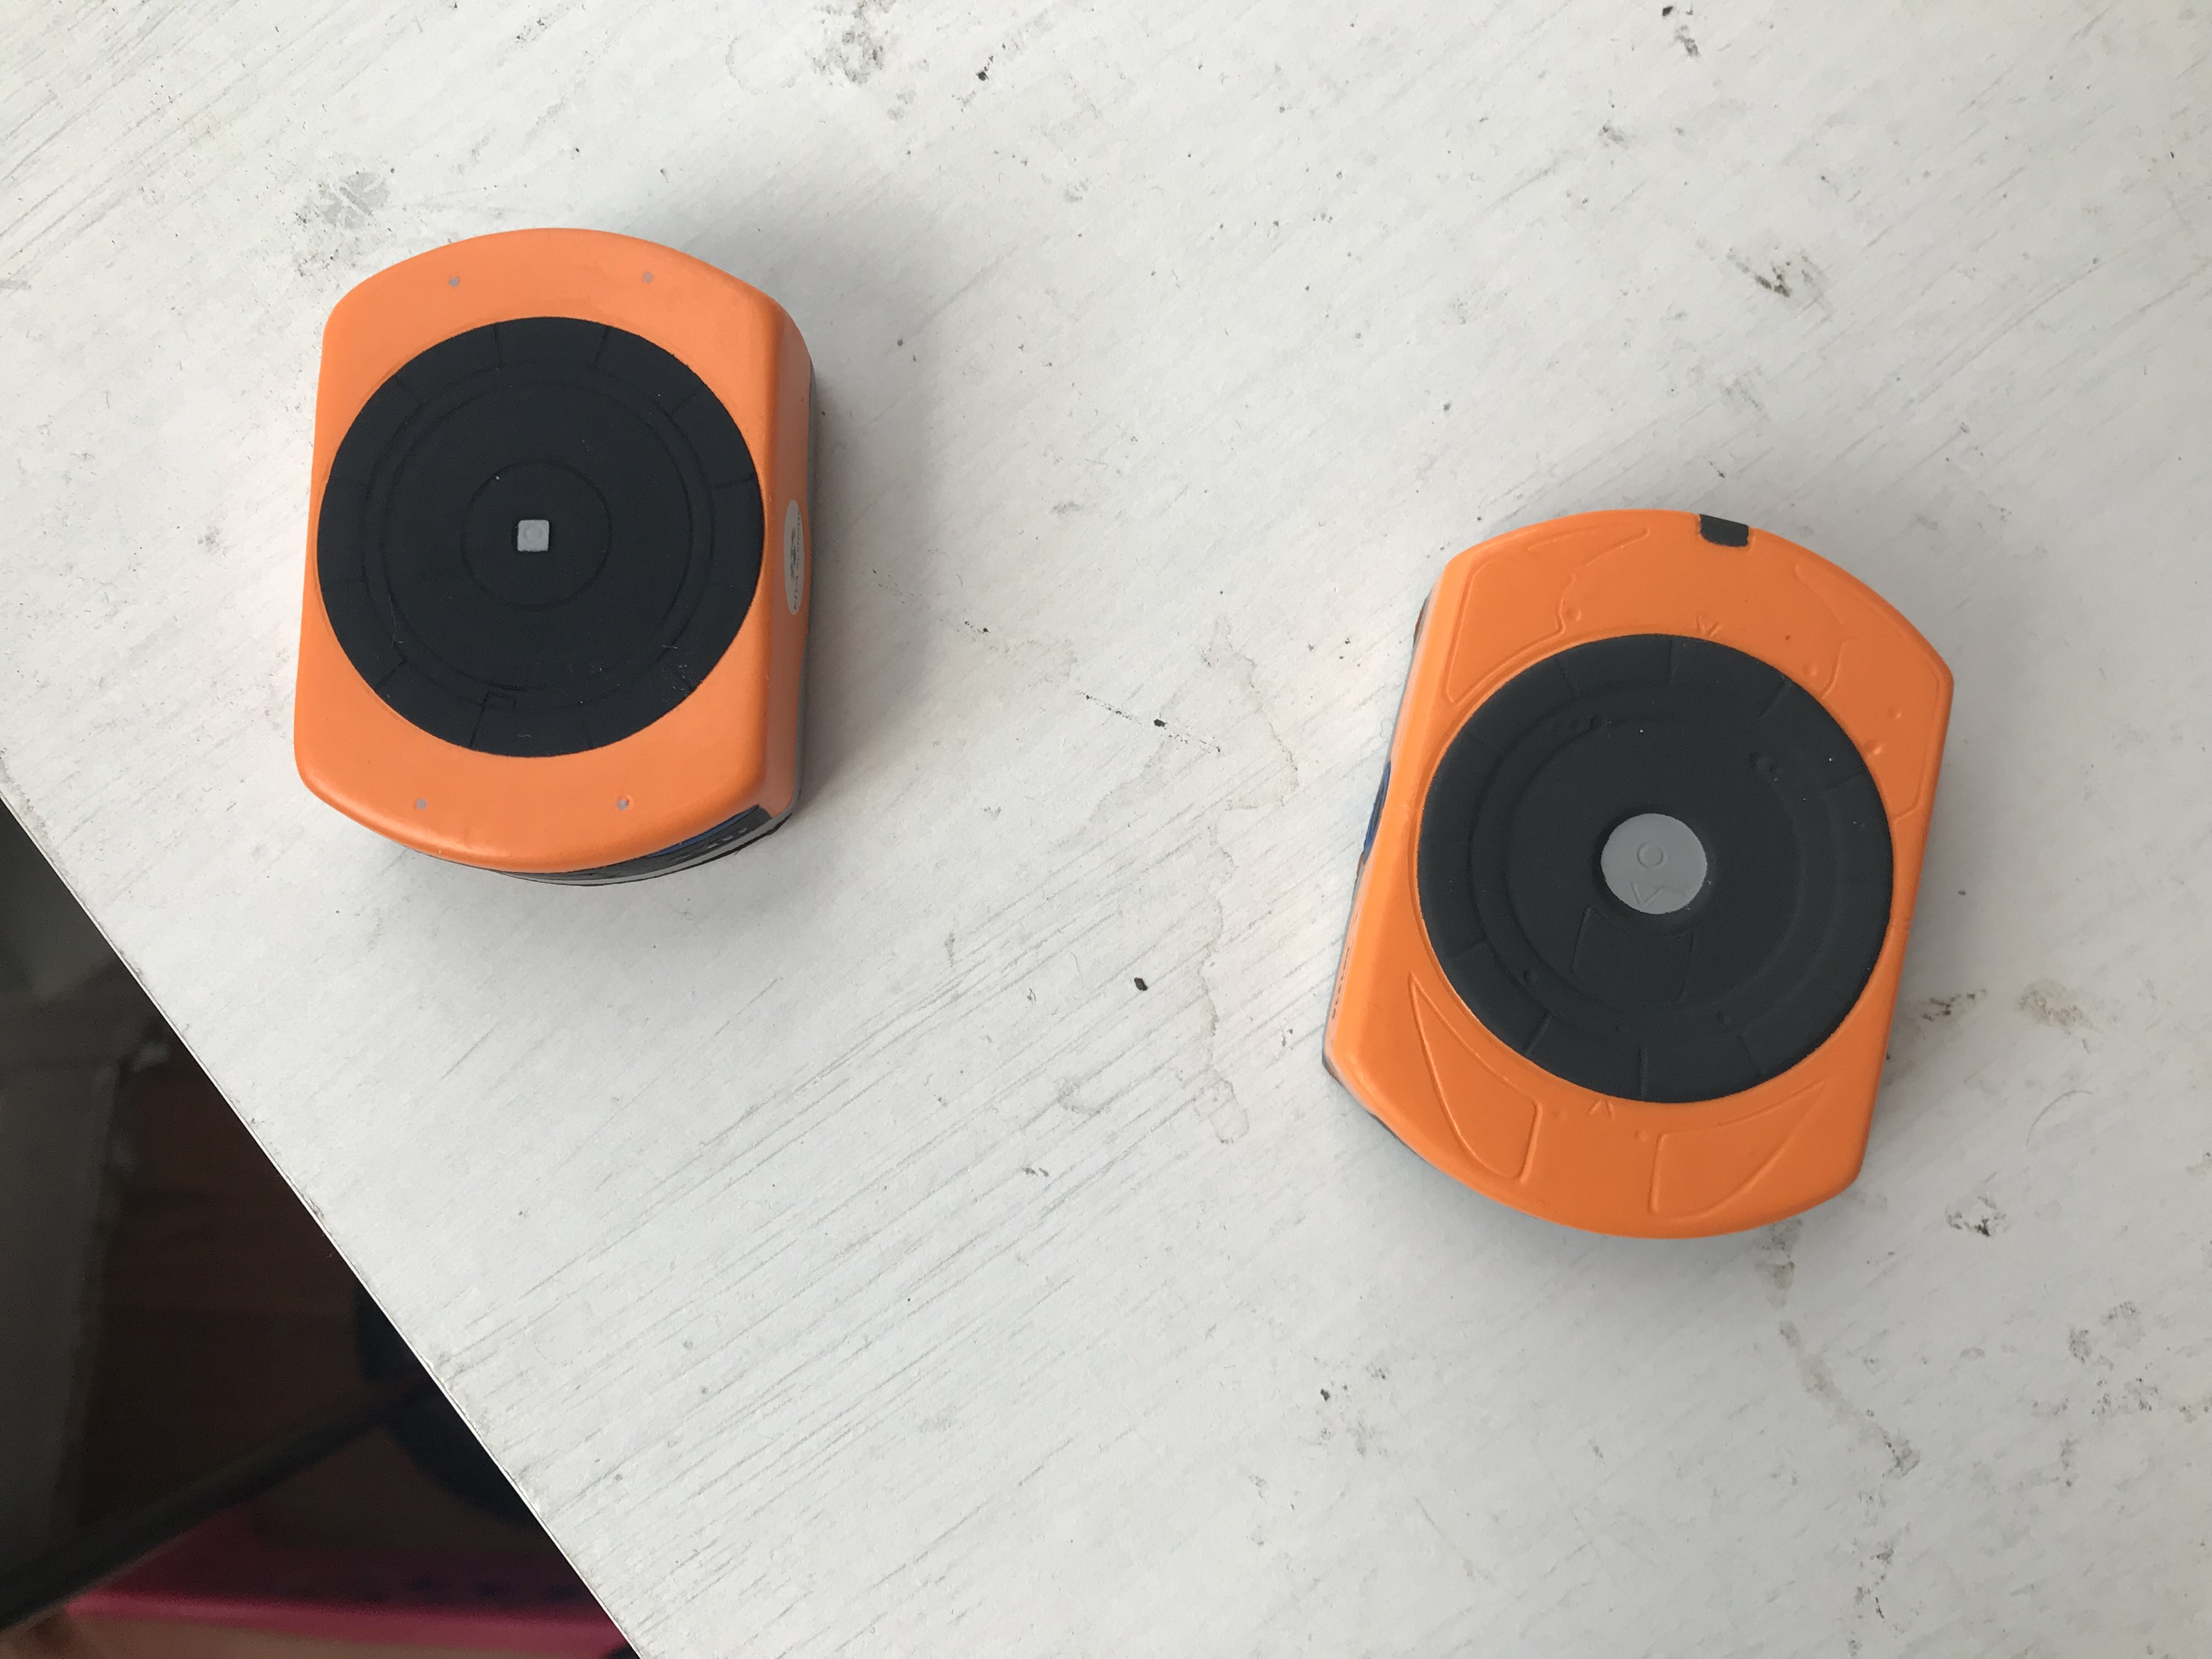amazon_bot: (1296, 491, 1991, 1258), (273, 223, 843, 913)
